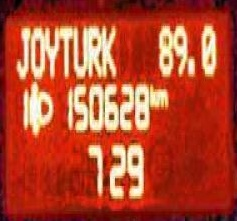-: (186, 51, 195, 76)
0: (198, 20, 217, 74), (87, 81, 102, 132)
1: (20, 84, 29, 129), (63, 84, 72, 129)
2: (107, 140, 124, 198), (118, 79, 132, 130)
5: (72, 81, 87, 132)
6: (102, 81, 118, 130)
7: (85, 137, 104, 196)
8: (156, 18, 172, 76), (133, 79, 147, 130)
9: (126, 137, 143, 198), (173, 18, 186, 76)
X: (28, 20, 43, 79), (100, 20, 115, 79), (57, 18, 71, 79), (72, 20, 86, 79), (15, 20, 29, 79), (43, 20, 57, 79), (86, 20, 100, 79), (156, 84, 167, 107), (148, 79, 156, 107)
